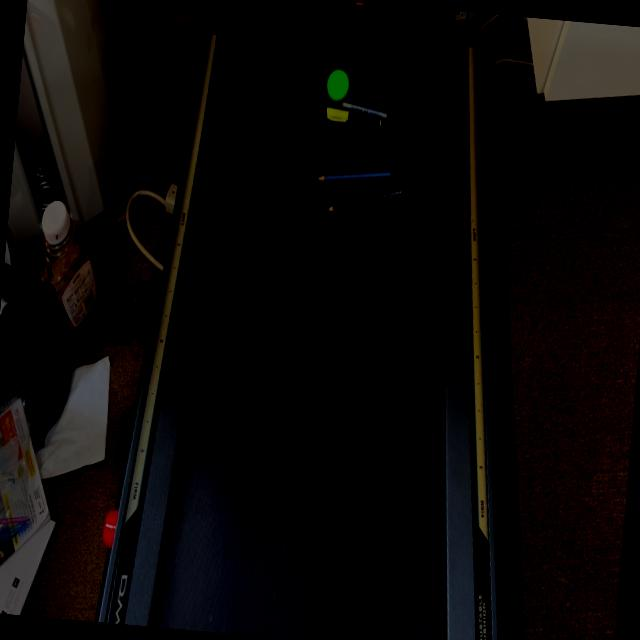Trash: (322, 66, 399, 131), (312, 168, 404, 222)
